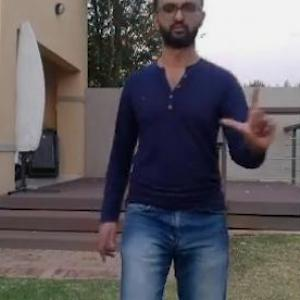land_hand: (218, 78, 285, 154)
